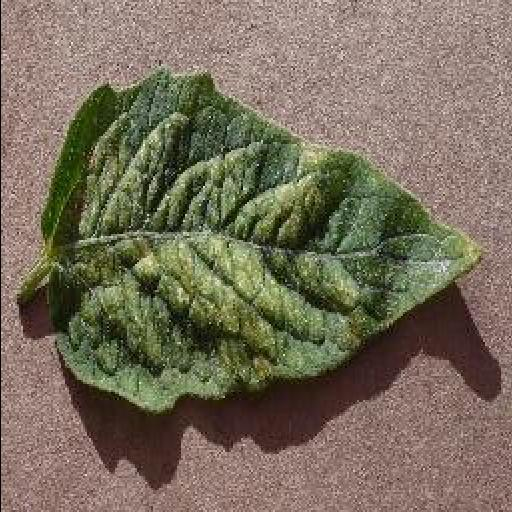disease_tomato: (40, 64, 488, 410)
